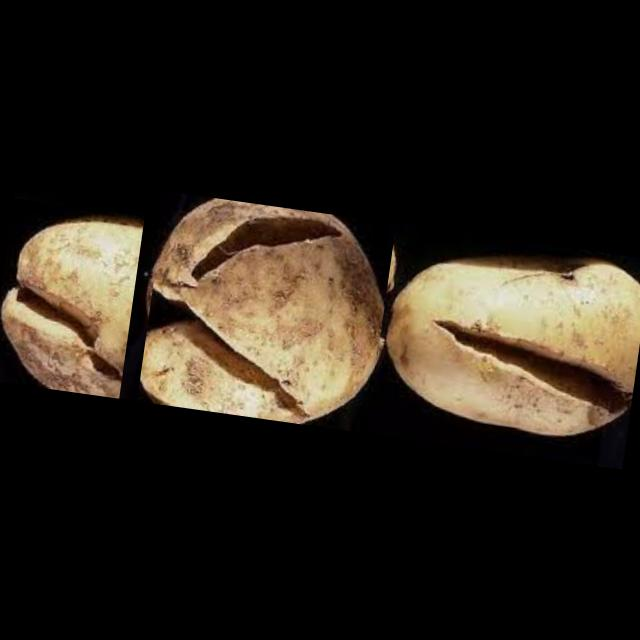Damaged potato: (137, 192, 396, 434), (373, 229, 640, 452), (0, 198, 144, 399)
